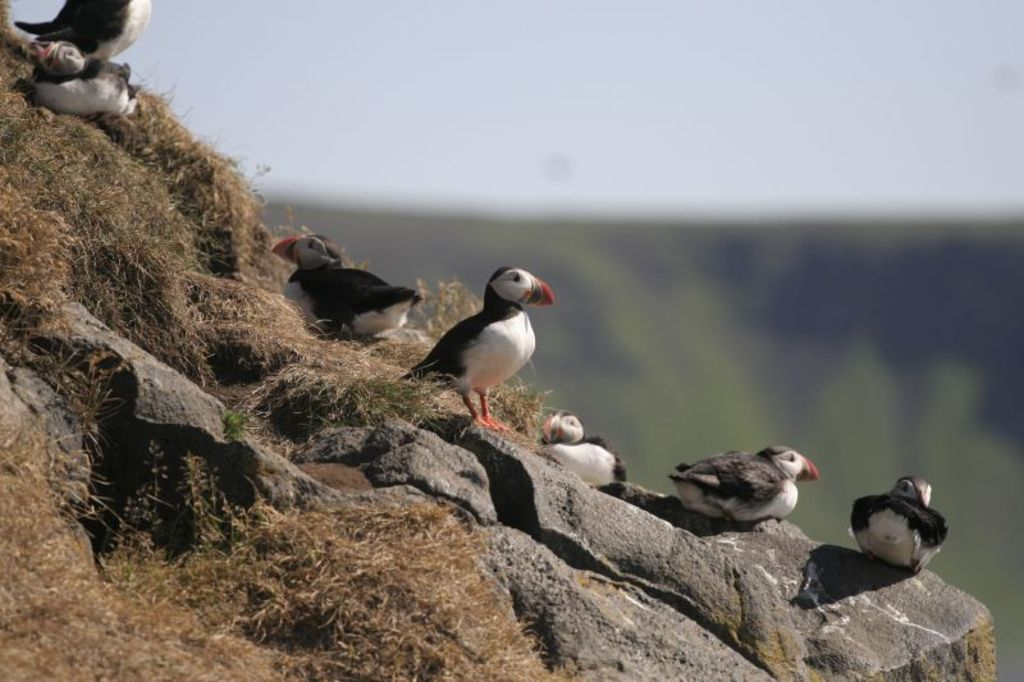person: (396, 266, 555, 433)
